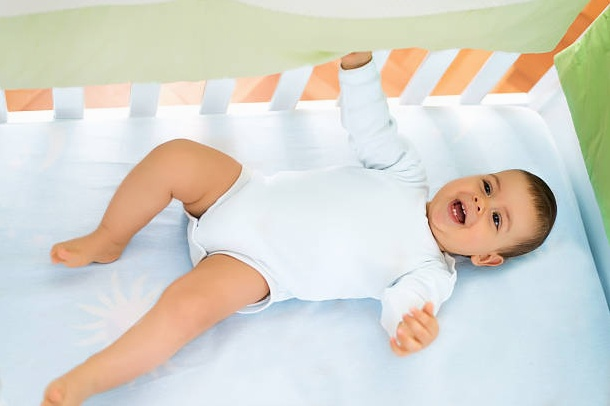baby: (42, 52, 555, 405)
crib: (87, 50, 609, 405)
